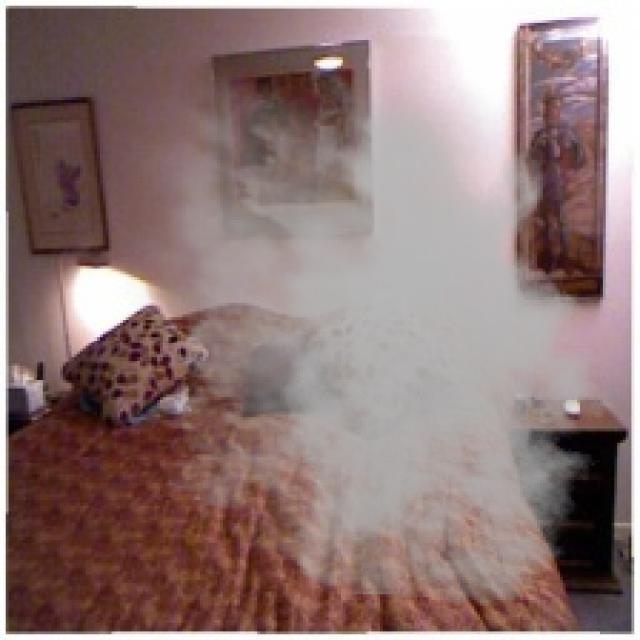Smoke: (103, 54, 632, 609)
